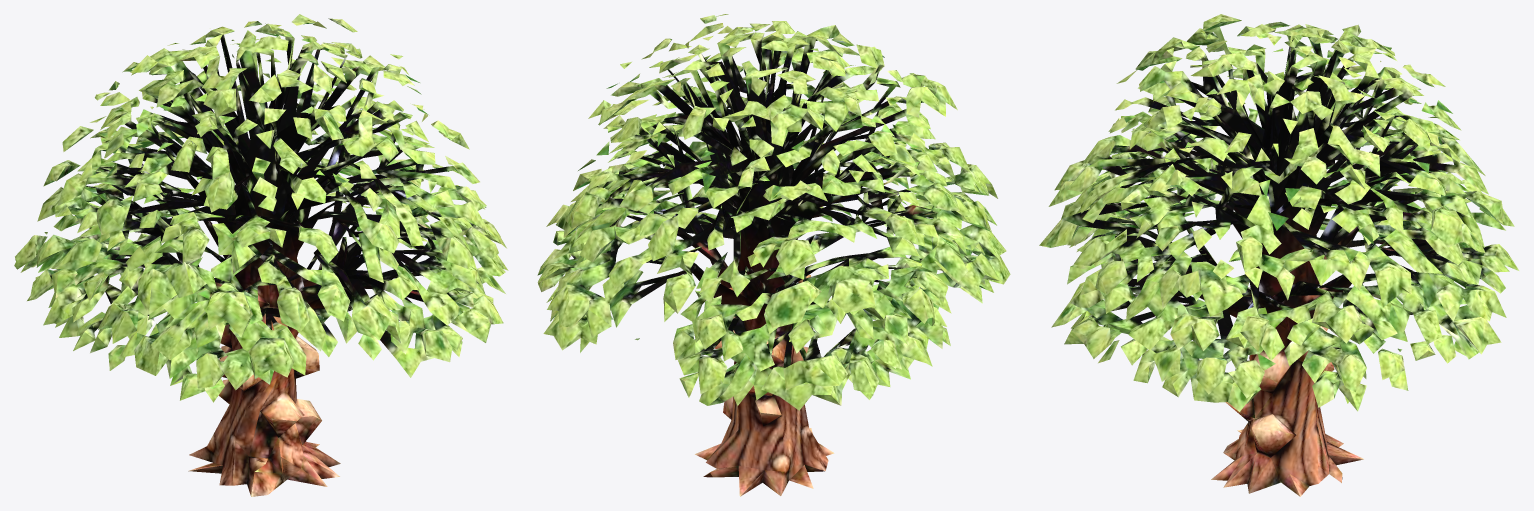
Rendered from t_elm_lo.glb.
3 renders of one model, left to right at view 1: azimuth 30°, elevation 25°; view 2: azimuth 150°, elevation 25°; view 3: azimuth 270°, elevation 25°, orthographic.
Parts seen in each view (by area): view 1: t_elm; view 2: t_elm; view 3: t_elm.
Boxes of the visible parts, <box> form: t_elm: <box>14,14,508,496</box>; t_elm: <box>537,14,1010,496</box>; t_elm: <box>1039,14,1519,496</box>.
Bounding box in the file's own units: 10.88 × 10.93 × 10.82.
Materials: 1 (1 with a texture image).
